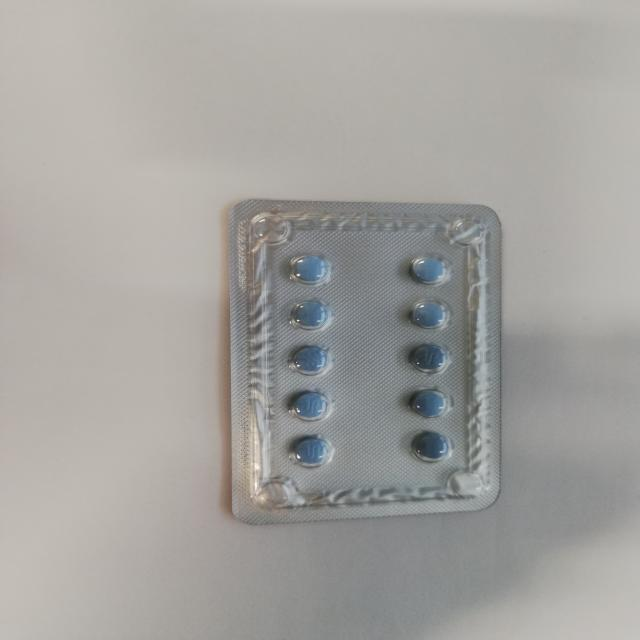Pill: (278, 430, 339, 471), (278, 340, 337, 381), (396, 339, 459, 376), (282, 384, 337, 426), (398, 247, 454, 288), (398, 386, 458, 424), (406, 431, 468, 466), (276, 250, 335, 286), (394, 294, 452, 330), (283, 296, 339, 333)
